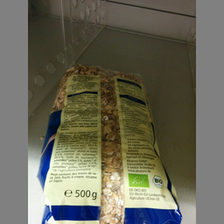cereal: (39, 63, 184, 224)
